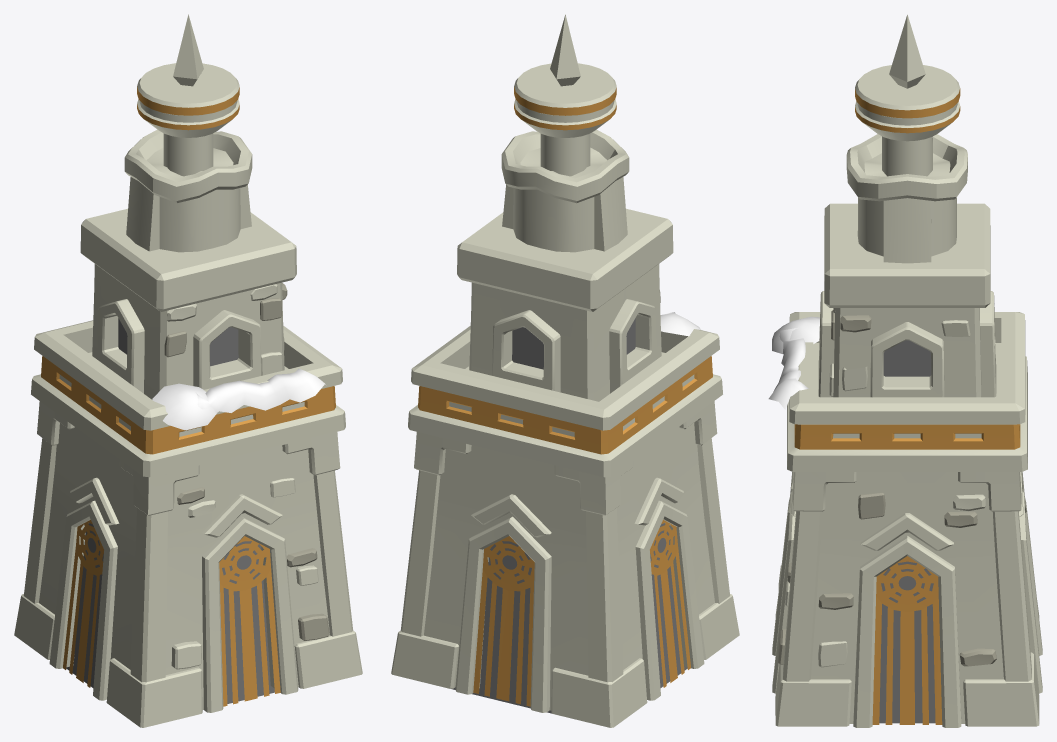
Rendered from catle_main.fbx.
3 views of the same model, side by side, from view 1: azimuth 30°, elevation 25°; view 2: azimuth 150°, elevation 25°; view 3: azimuth 270°, elevation 25° (orthographic). The views are drawn at different scales.
Visible parts, largest first — view 1: Object002, Object004; view 2: Object002, Object004; view 3: Object002, Object004.
Boxes of the visible parts, left/top/right/bottom form: Object002: left=14, top=14, right=362, bottom=727; Object004: left=152, top=368, right=326, bottom=430; Object002: left=391, top=14, right=739, bottom=727; Object004: left=660, top=312, right=700, bottom=336; Object002: left=772, top=14, right=1042, bottom=727; Object004: left=768, top=316, right=819, bottom=409.
Size of the model in its own units: 139 by 376 by 141.
